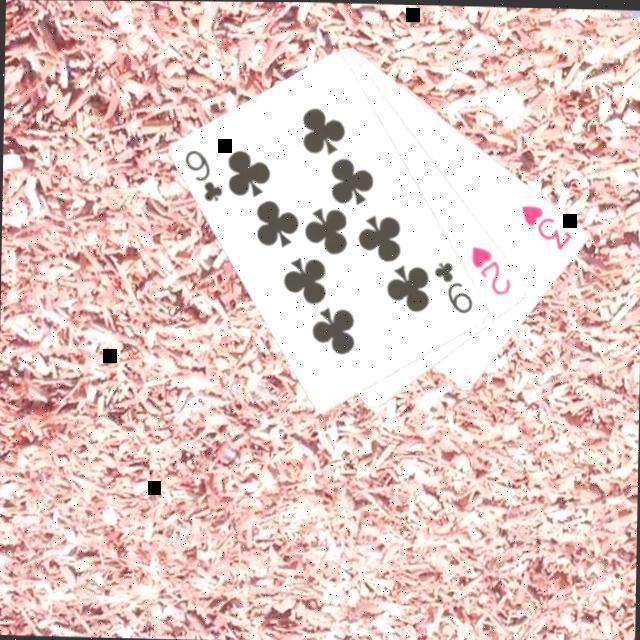2H: (469, 244, 517, 300)
3H: (518, 203, 577, 254)
9C: (431, 259, 478, 318), (182, 147, 229, 206)
